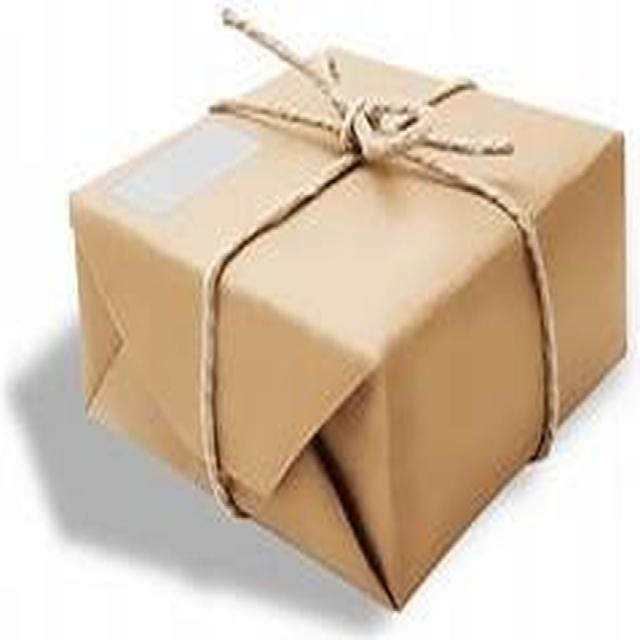box: (35, 16, 637, 621)
